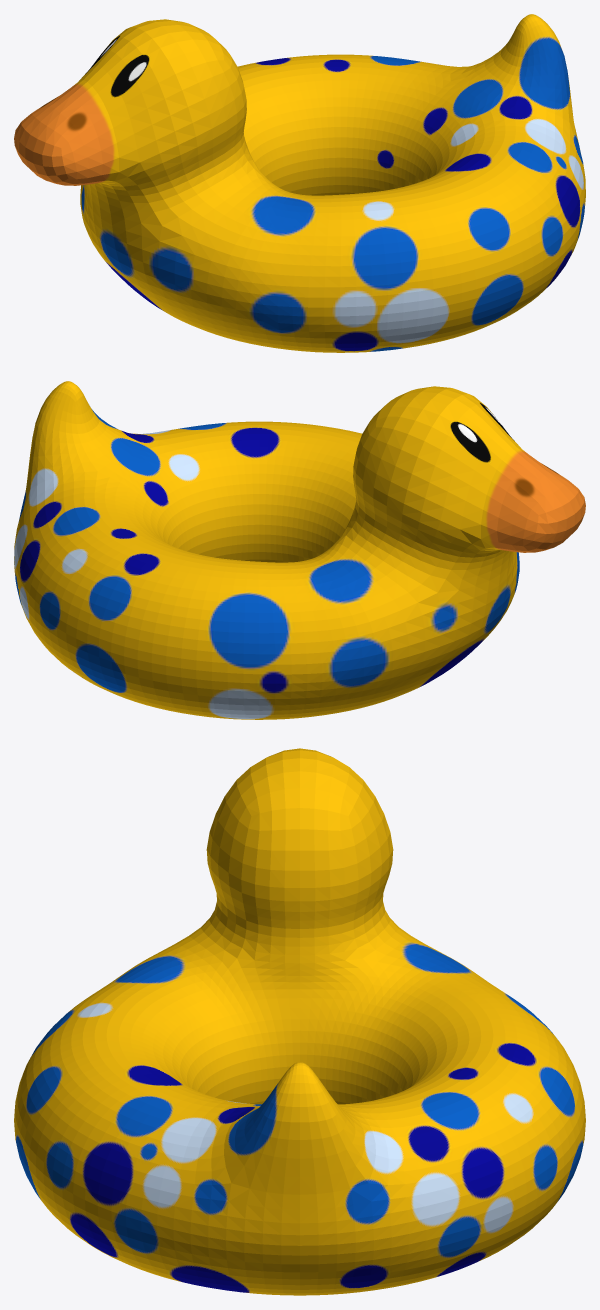
File: bob.obj
3 views of the same model, one above another, from view 1: azimuth 30°, elevation 25°; view 2: azimuth 150°, elevation 25°; view 3: azimuth 270°, elevation 25° (orthographic). The views are drawn at different scales.
Bounding box in the file's own units: 1.86 × 0.9725 × 1.46.
1 material, 1 textured.
